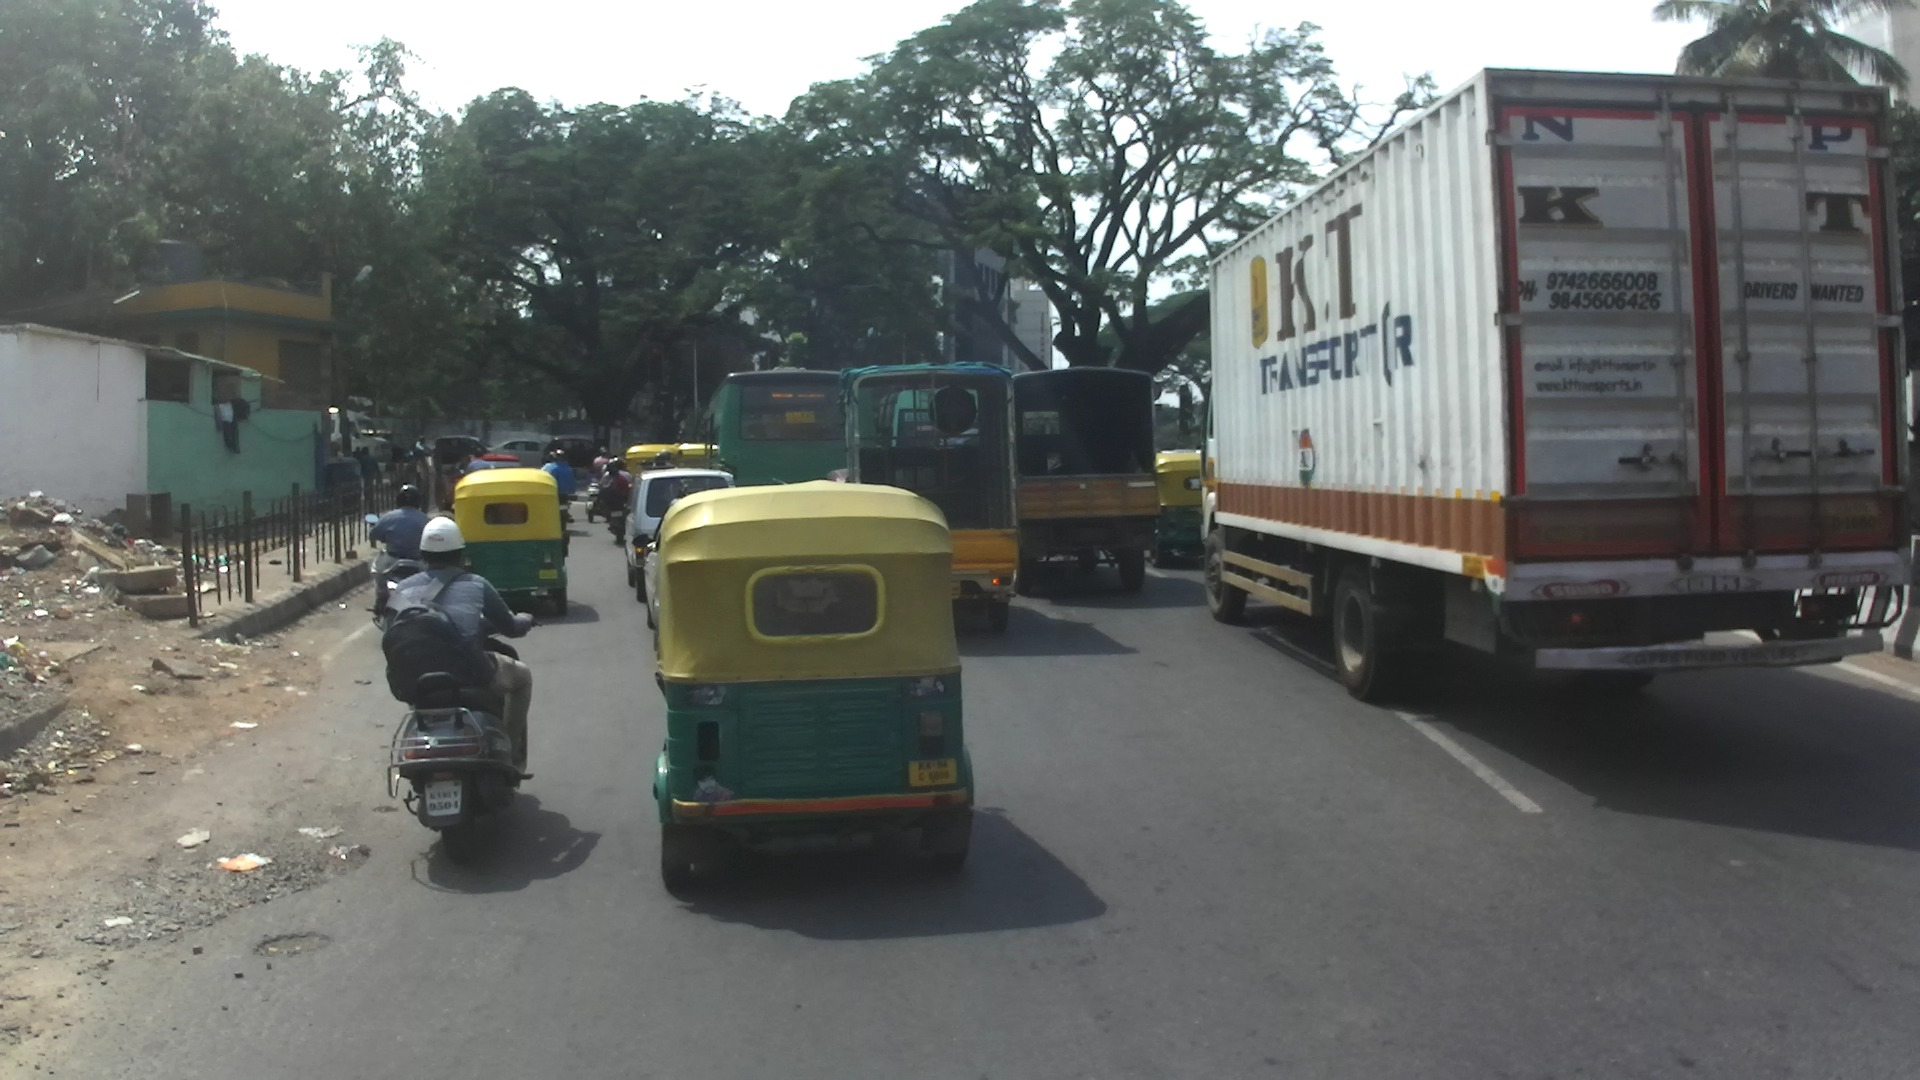autorickshaw: (650, 478, 974, 907), (451, 467, 569, 619), (1149, 448, 1216, 570), (624, 442, 678, 489), (678, 444, 724, 475)
bus: (700, 370, 862, 532)
car: (625, 469, 740, 606), (629, 500, 715, 631), (328, 405, 393, 460), (481, 438, 551, 474), (544, 436, 603, 476), (433, 434, 490, 468), (472, 452, 522, 479)
motorcycle: (386, 572, 543, 863), (361, 513, 440, 635), (549, 472, 576, 539), (601, 496, 631, 548), (584, 479, 615, 524), (408, 448, 436, 472)
person: (357, 446, 384, 514)
rider: (380, 517, 535, 779), (370, 484, 436, 619), (548, 448, 575, 495), (605, 463, 632, 504), (602, 457, 633, 492), (463, 451, 494, 476), (591, 448, 614, 480), (541, 451, 558, 485), (408, 436, 431, 458)
traffic light: (1180, 382, 1196, 434)
truck: (1175, 70, 1919, 711), (838, 362, 1018, 632)
vehicle fallback: (325, 457, 362, 513)
